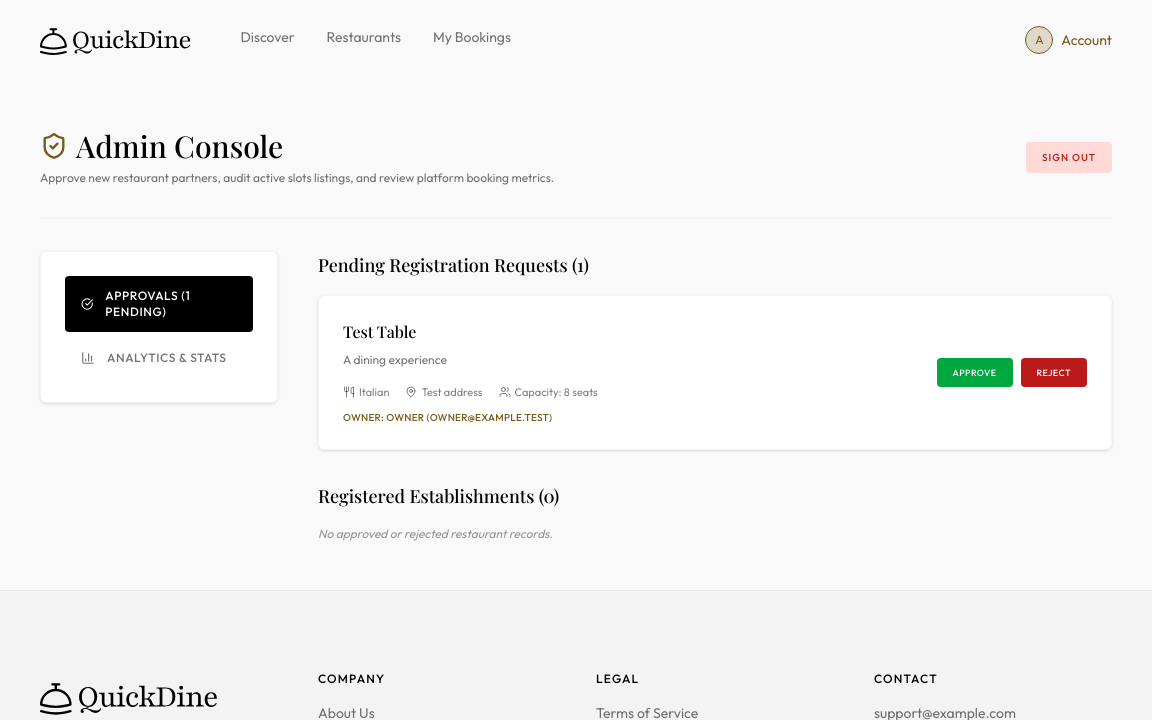
complete page journeys › admin errors leave approval actionable
The width and height of the screenshot is (1152, 720).
Click the button "Reject". click: click(1054, 373)
box: [1020,358,1087,387]
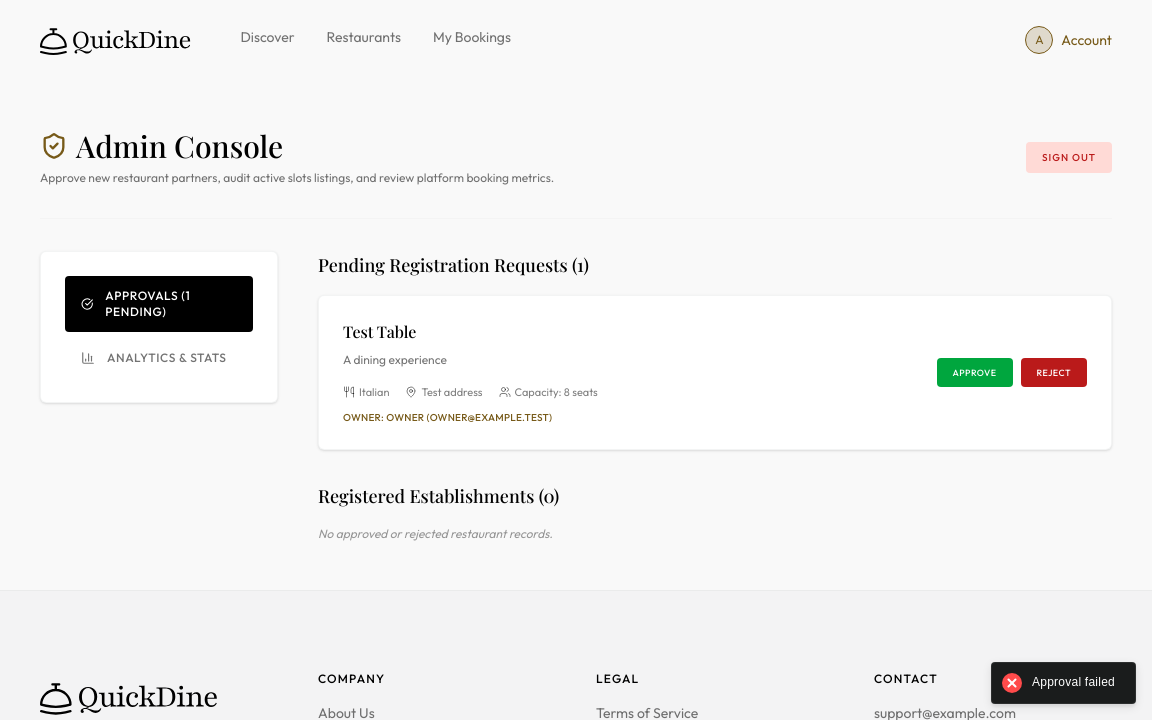
Expected: the button "Approve" is enabled, [937,358,1013,387]
Result: the text "Approval failed" is shown at [1032,675,1115,691]
